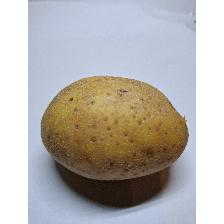Kartoffel: (39, 68, 190, 182)
